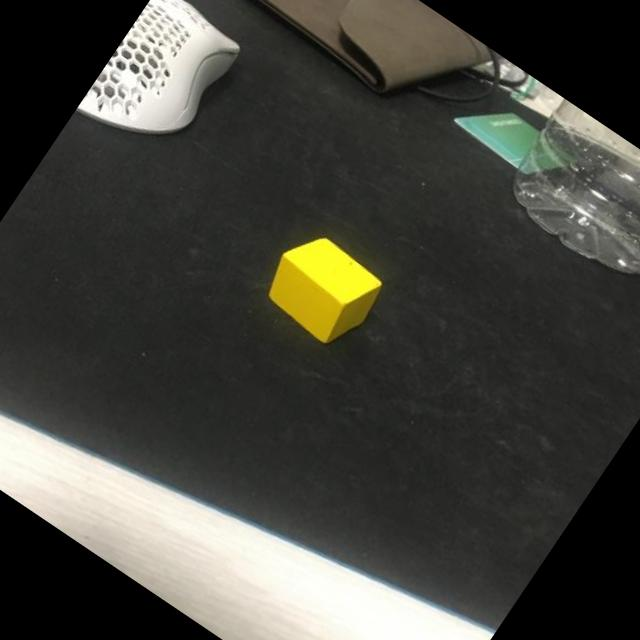yellow: (254, 222, 391, 356)
